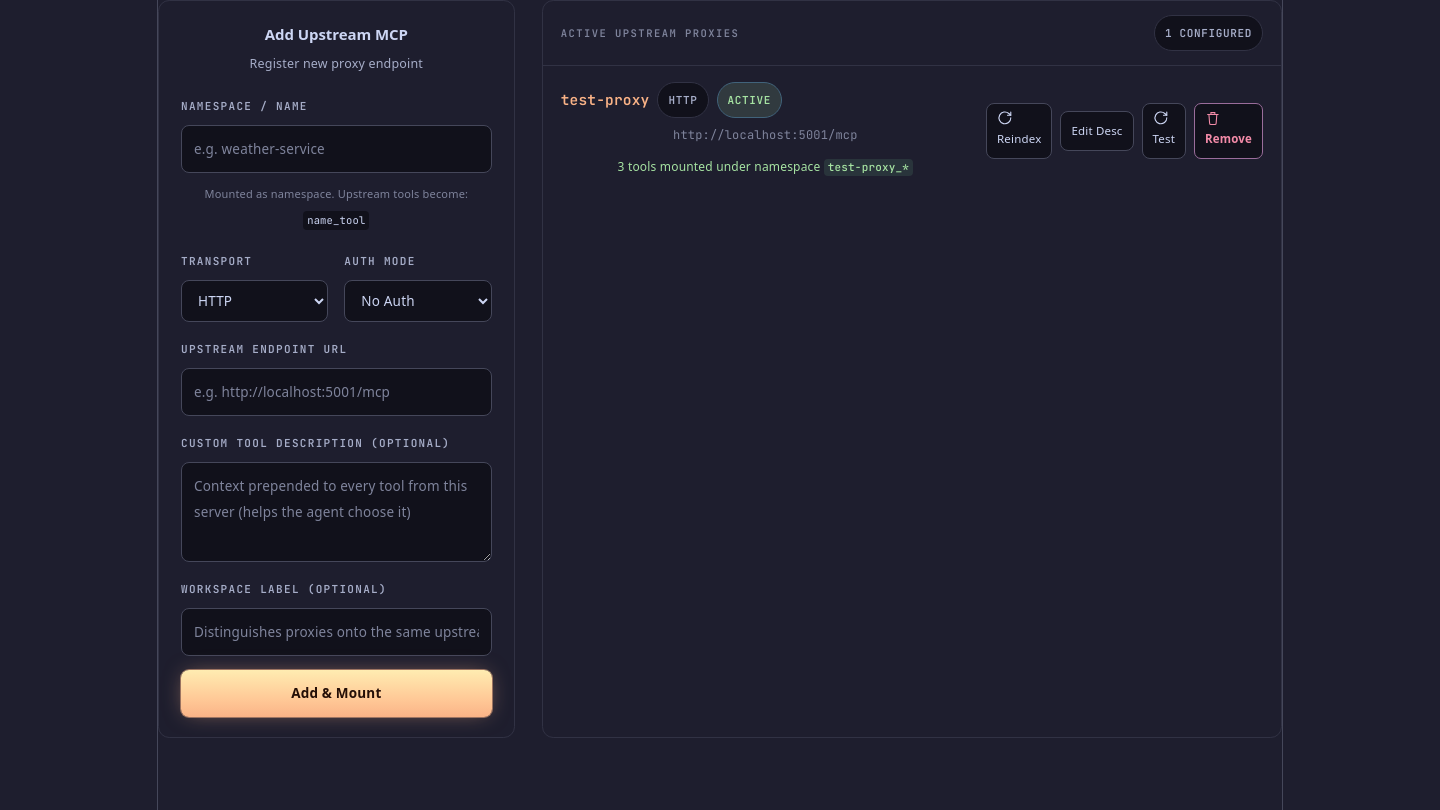
Scenario: ProxyManager › validates URL format and shows error if invalid URL is submitted
This screenshot has width=1440, height=810.
Step 1. Type "valid-name" into the field with placeholder "e.g. weather-service" → (336, 149), box left=181, top=125, right=492, bottom=173
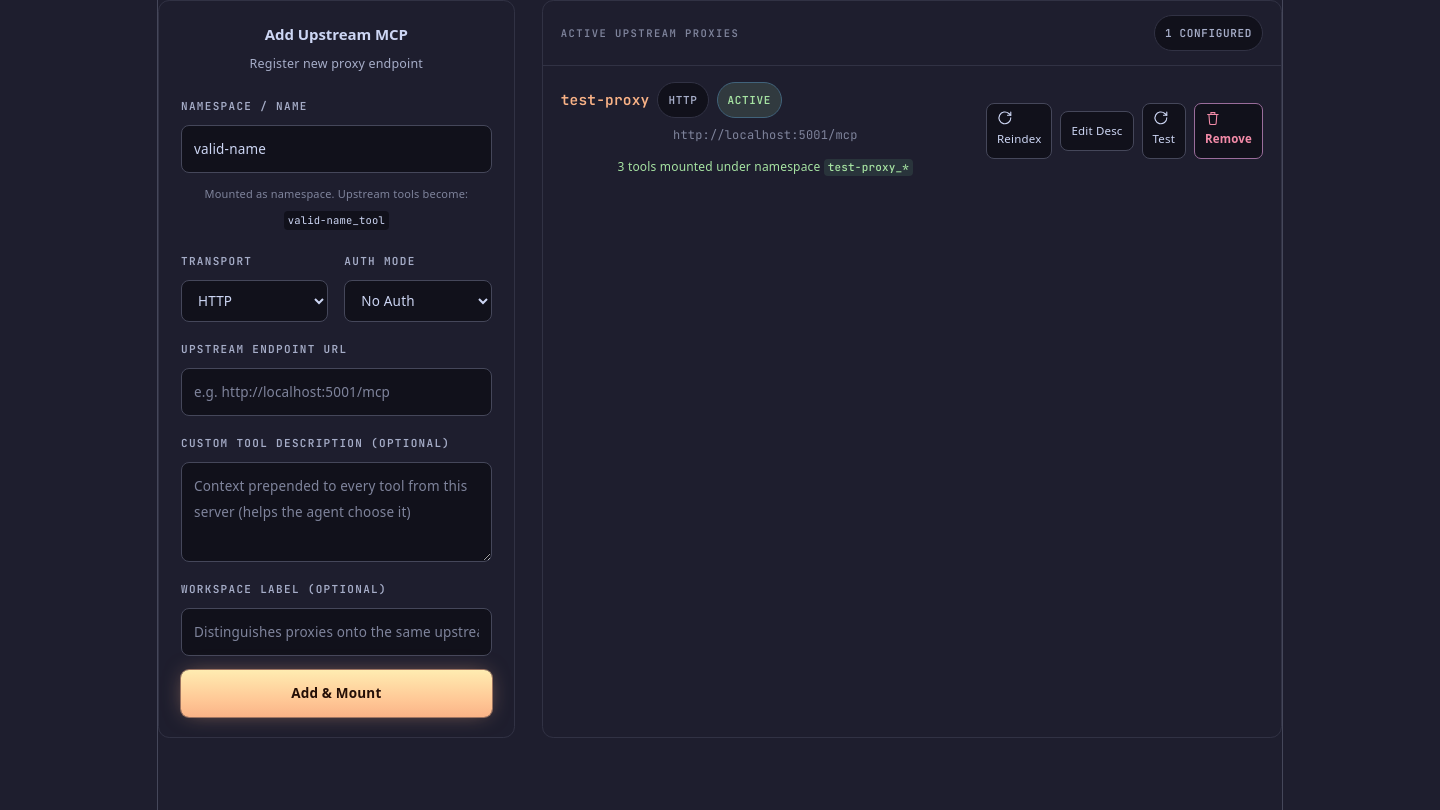
Step 2. Type "invalid-url-format" into the field with placeholder "e.g. http://localhost:5001/mcp" → (336, 392), box left=181, top=368, right=492, bottom=416
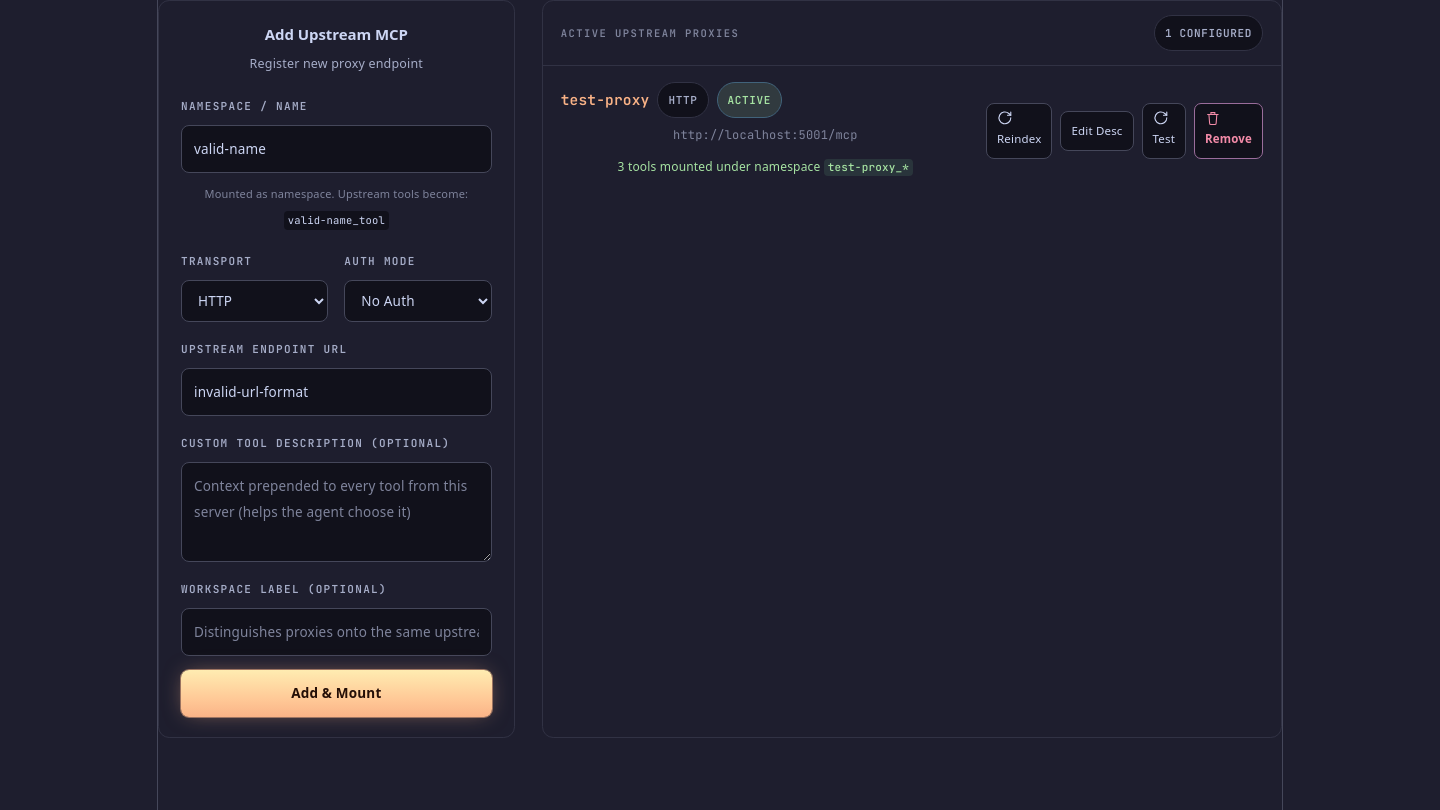
Step 3. Click the button "Add & Mount" → click(336, 693), box left=181, top=670, right=492, bottom=716
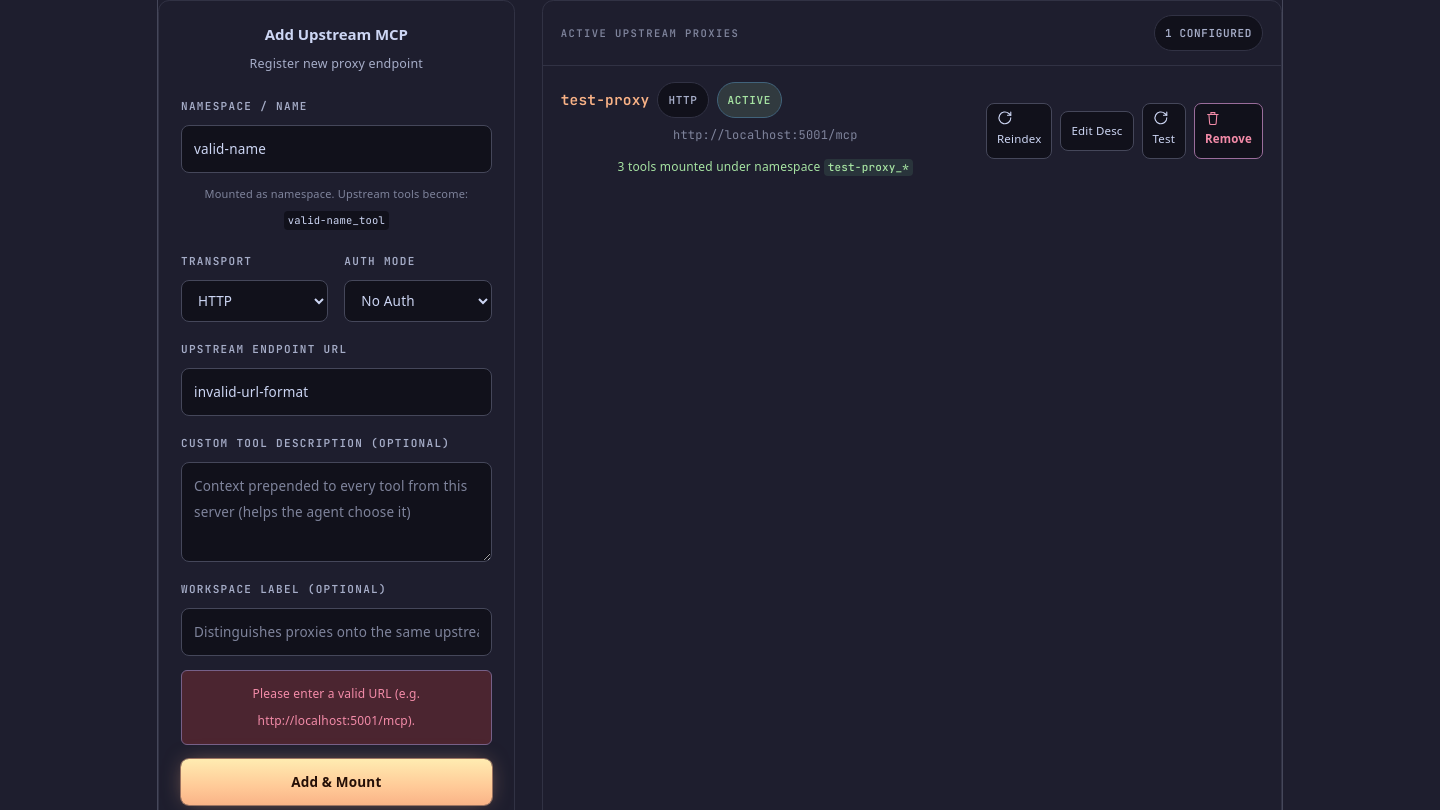
Now the text "Please enter a valid URL (e.g. http://localhost:5001/mcp)." is shown, box left=181, top=670, right=492, bottom=745
